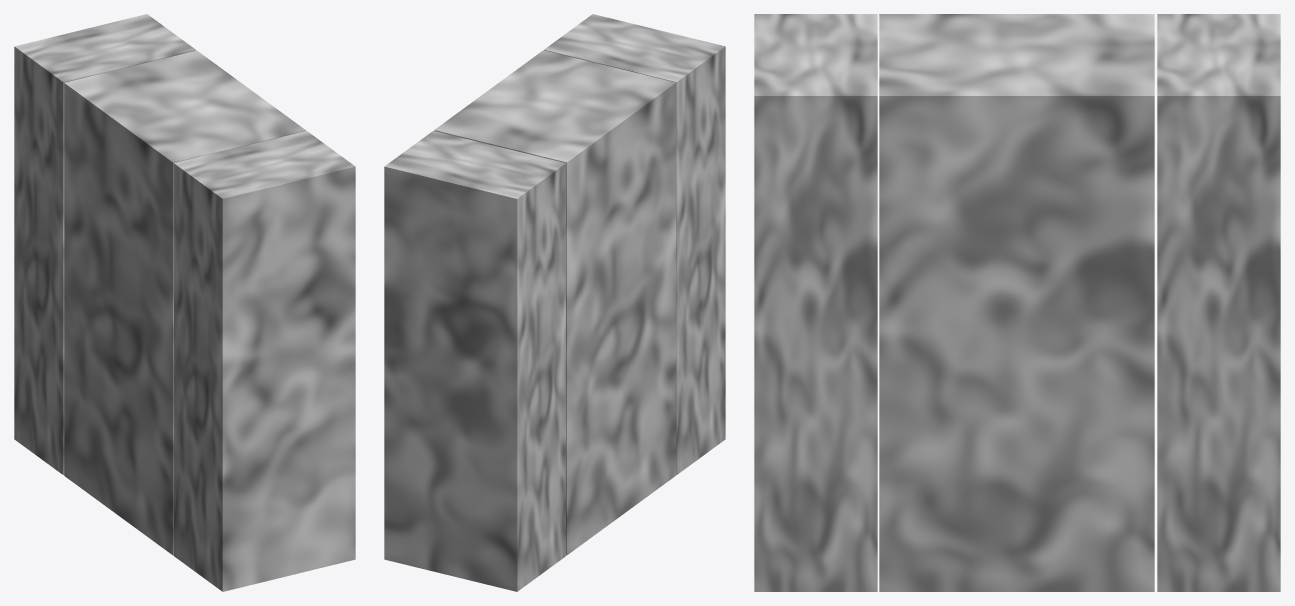
Rendered from Tars.gltf.
3 renders of one model, left to right at view 1: azimuth 30°, elevation 25°; view 2: azimuth 150°, elevation 25°; view 3: azimuth 270°, elevation 25°, orthographic. The views are drawn at different scales.
Visible parts, largest first — view 1: RightLeg, Body, LeftLeg; view 2: LeftLeg, Body, RightLeg; view 3: Body, RightLeg, LeftLeg.
Part boxes in pixels (x1,y1,x2,y2): RightLeg: (174, 131, 355, 591); Body: (64, 50, 306, 555); LeftLeg: (14, 14, 195, 474); LeftLeg: (384, 131, 565, 591); Body: (434, 50, 676, 555); RightLeg: (544, 14, 725, 474); Body: (879, 14, 1154, 591); RightLeg: (754, 14, 877, 591); LeftLeg: (1157, 14, 1280, 591).
Size of the model in its own units: 0.7074 by 2 by 1.92.
Materials: 1 (1 with a texture image).
